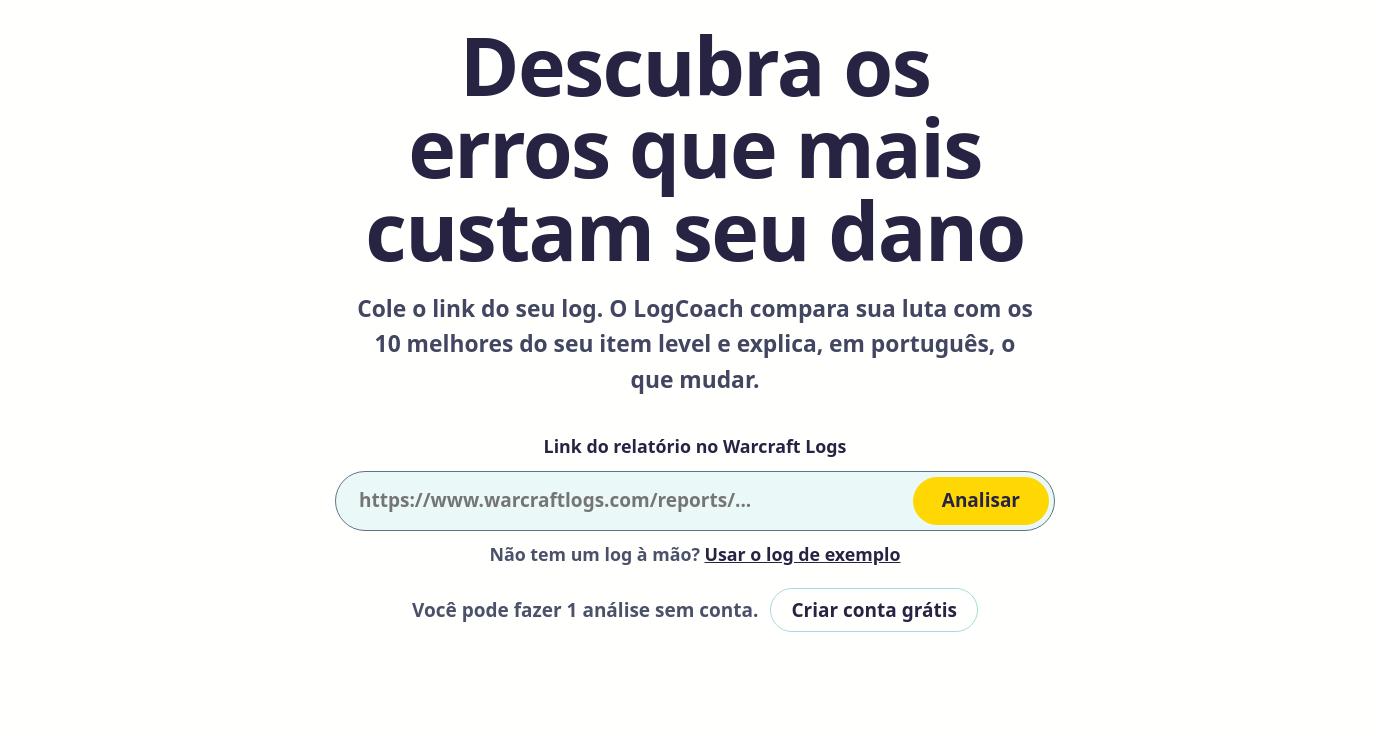
it: Home › link vazio: avisa no campo e não navega
The image size is (1378, 742).
Click the button "Analisar" at point(981, 501), box [913,477,1049,525]
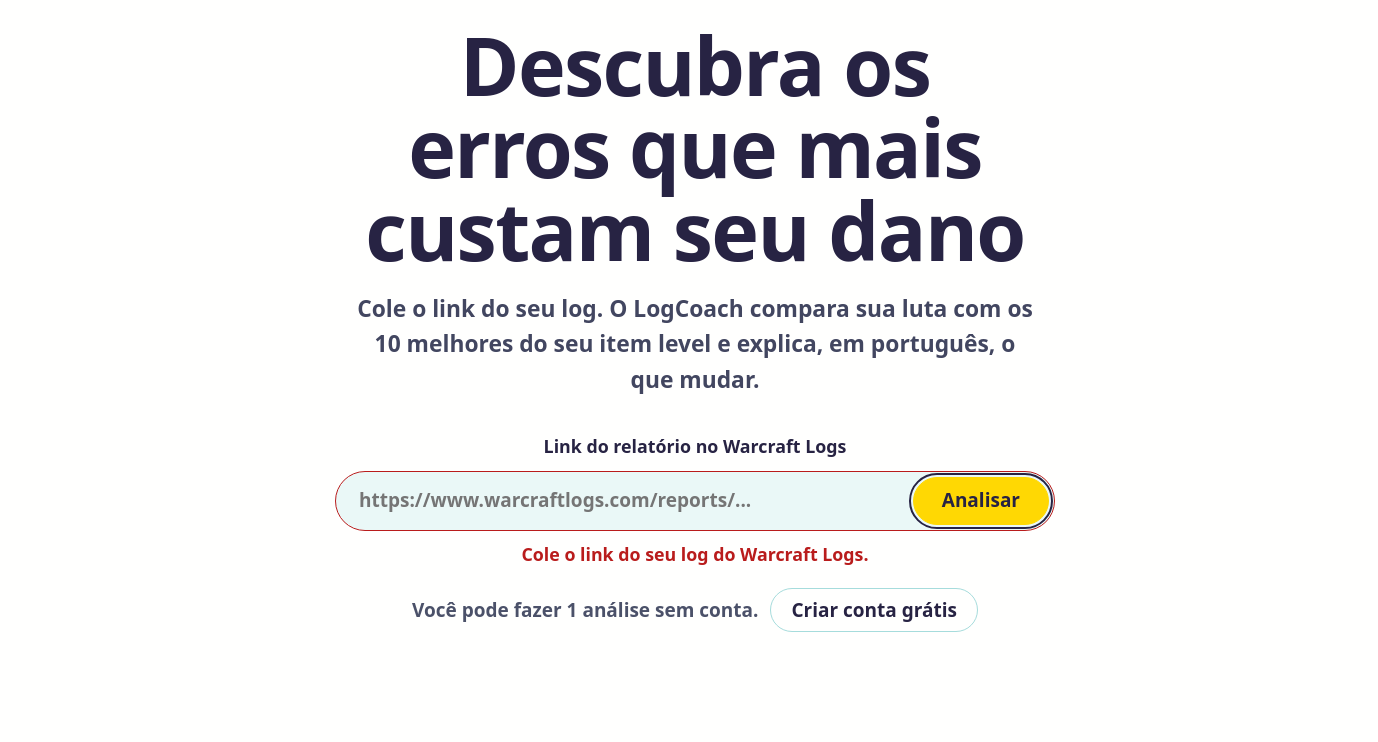
Check: the text "Cole o link do seu log do Warcraft Logs." is shown, box [522,541,869,568]
